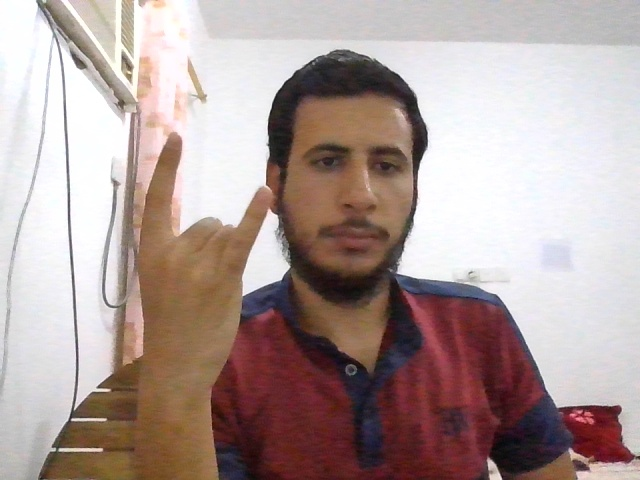Two: (138, 134, 271, 371)
